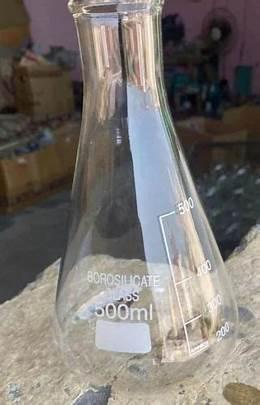Titrarion: (40, 9, 247, 384)
